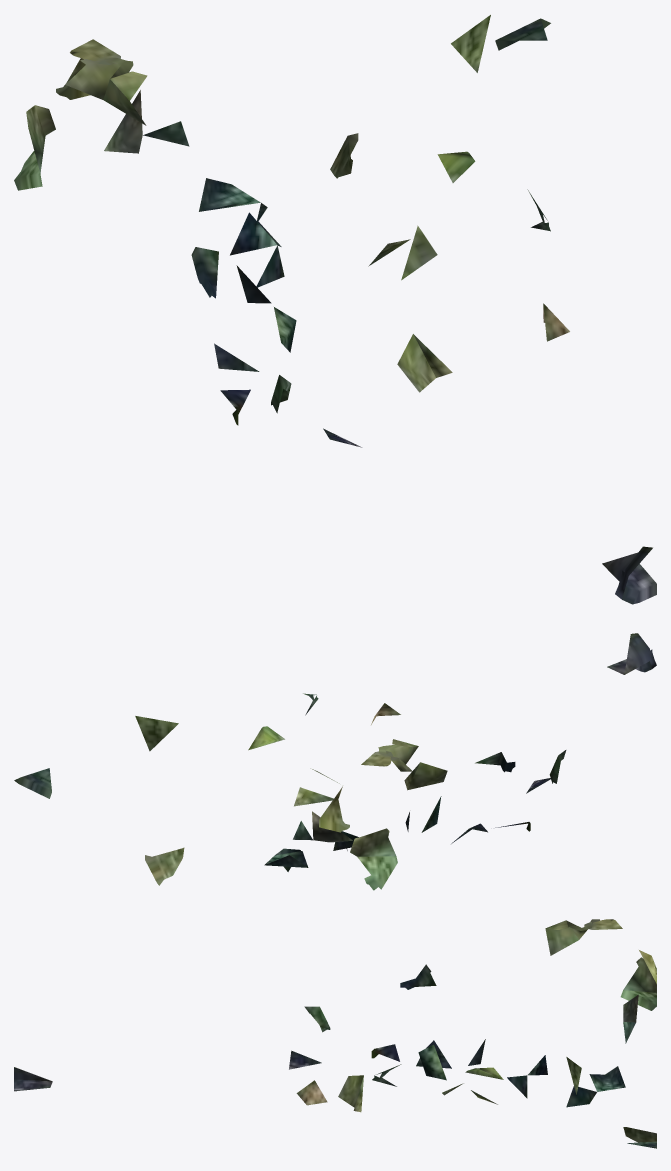
3 renders of one model, top to bottom at view 1: azimuth 30°, elevation 25°; view 2: azimuth 150°, elevation 25°; view 3: azimuth 270°, elevation 25°, orthographic. The views are drawn at different scales.
Visible parts, largest first — view 1: 30436272704370636621_1; view 2: 30436272704370636621_1; view 3: 30436272704370636621_1.
Part boxes in pixels (x1=…): 30436272704370636621_1: x1=14, y1=15, x2=656, y2=604; 30436272704370636621_1: x1=14, y1=633, x2=656, y2=890; 30436272704370636621_1: x1=14, y1=919, x2=656, y2=1148.
Size of the model in its own units: 23.47 by 9.56 by 38.26.
Materials: 1 (1 with a texture image).
